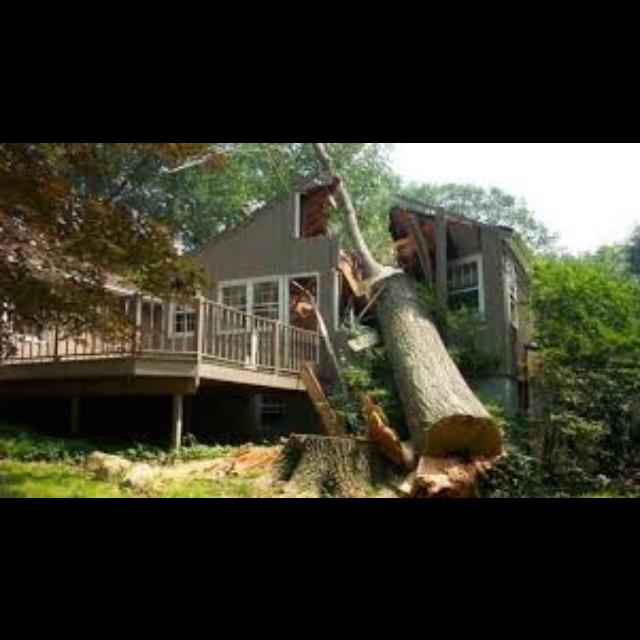Fallen Tree: (366, 261, 502, 489)
